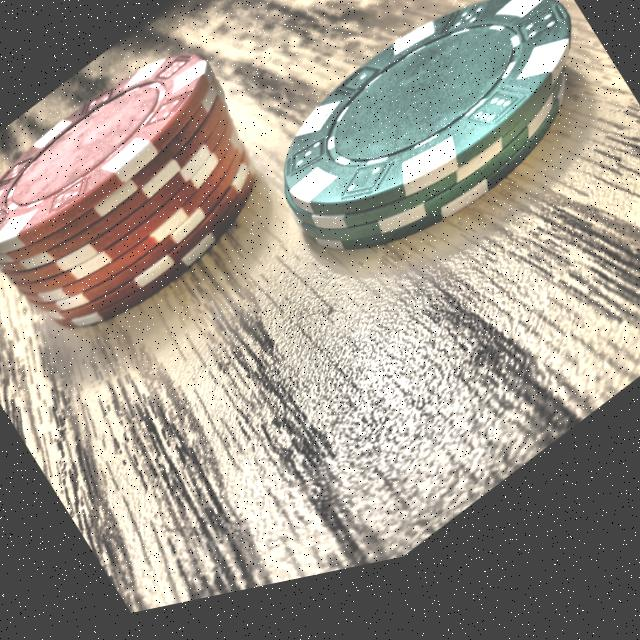Chip: (212, 0, 631, 368), (0, 0, 320, 394)
